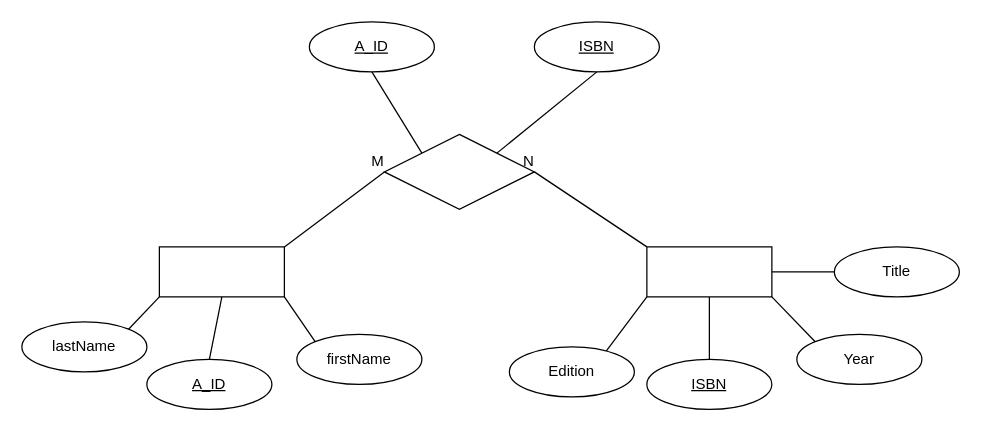
Image size: 981x431. Some labels were removed from this diagram. Here are the shapes that lost their labels. From the top down, the centre of each, then its label:
the point at 458,171: A_writes_B
the point at 221,271: Author
the point at 709,271: Book
